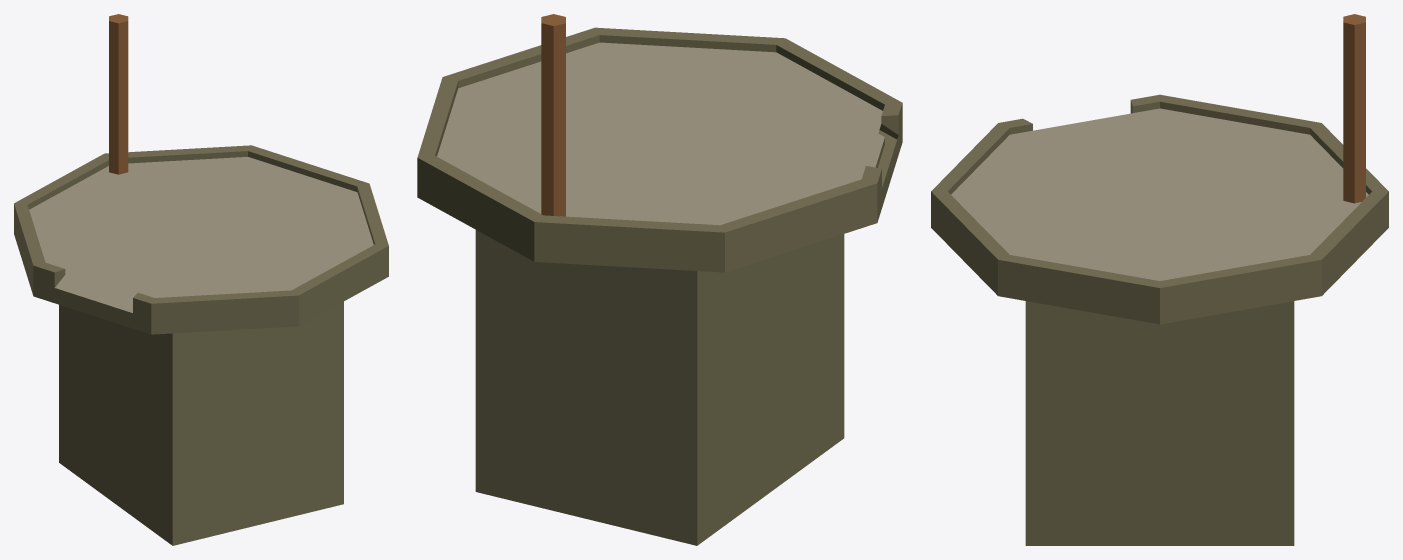
3 views of the same model, side by side, from view 1: azimuth 30°, elevation 25°; view 2: azimuth 150°, elevation 25°; view 3: azimuth 270°, elevation 25° (orthographic). The views are drawn at different scales.
Parts seen in each view (by area): view 1: Box970_rock2_0, Cylinder1647_wall3_0, Cylinder1647_rock2_0, Cylinder1721_brown_0; view 2: Box970_rock2_0, Cylinder1647_wall3_0, Cylinder1647_rock2_0, Cylinder1721_brown_0; view 3: Box970_rock2_0, Cylinder1647_wall3_0, Cylinder1647_rock2_0, Cylinder1721_brown_0.
Part boxes in pixels (x1,y1,x2,y2): Box970_rock2_0: (59, 301, 343, 545); Cylinder1647_wall3_0: (29, 157, 373, 312); Cylinder1647_rock2_0: (14, 145, 388, 334); Cylinder1721_brown_0: (109, 14, 128, 174); Box970_rock2_0: (475, 230, 844, 545); Cylinder1647_wall3_0: (437, 42, 884, 225); Cylinder1647_rock2_0: (417, 27, 902, 272); Cylinder1721_brown_0: (541, 14, 565, 216); Box970_rock2_0: (1025, 301, 1294, 545); Cylinder1647_wall3_0: (951, 108, 1368, 280); Cylinder1647_rock2_0: (931, 94, 1388, 324); Cylinder1721_brown_0: (1343, 14, 1365, 203).
Size of the model in its own units: 558 by 642 by 558.
